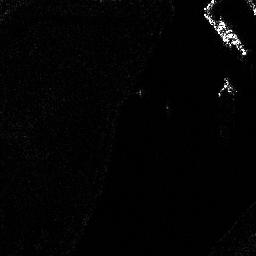ship: (215, 17, 248, 55)
